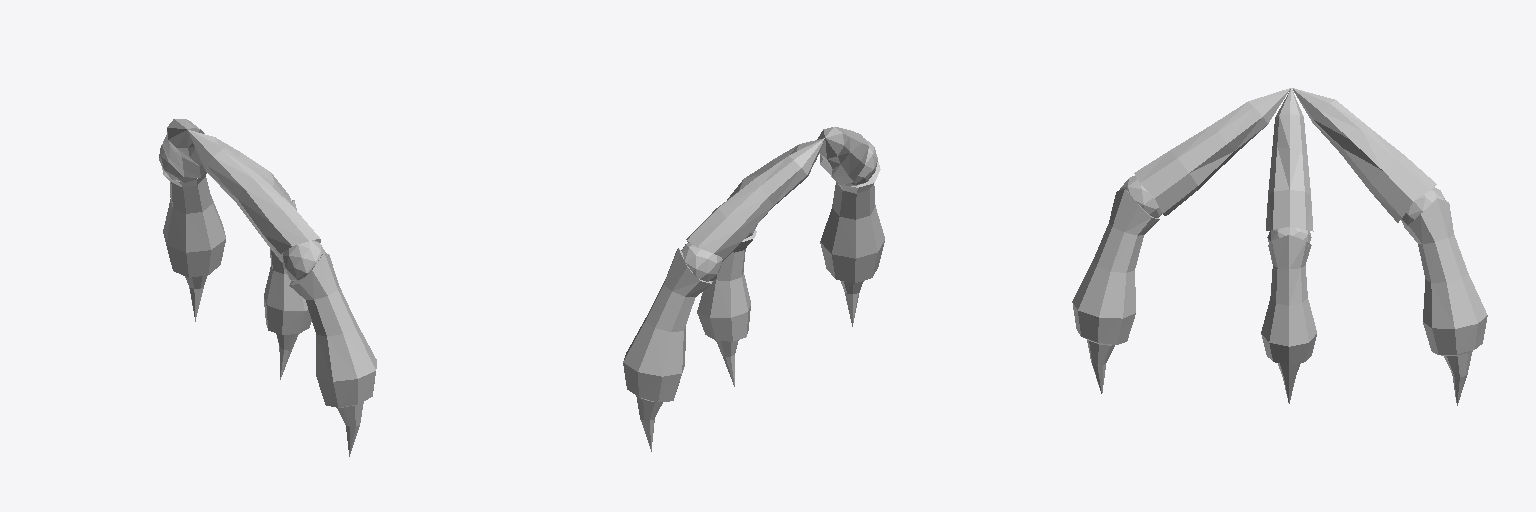
The model's file is left_leg-10_arukenimon.blend.obj.
The picture shows the model from 3 angles: view 1: azimuth 30°, elevation 25°; view 2: azimuth 150°, elevation 25°; view 3: azimuth 270°, elevation 25°; orthographic projection.
Parts seen in each view (by area): view 1: left_leg-10_arukenimon.blend_Arukenimon; view 2: left_leg-10_arukenimon.blend_Arukenimon; view 3: left_leg-10_arukenimon.blend_Arukenimon.
Boxes of the visible parts, x1,y1,x2,y2 form: left_leg-10_arukenimon.blend_Arukenimon: [159, 119, 376, 456]; left_leg-10_arukenimon.blend_Arukenimon: [623, 127, 884, 451]; left_leg-10_arukenimon.blend_Arukenimon: [1072, 88, 1487, 405].
Bounding box in the file's own units: 1.43 × 2.96 × 4.04.